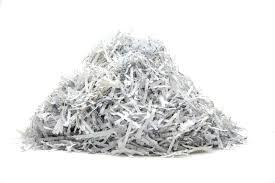Paper shavings: (8, 18, 252, 166)
